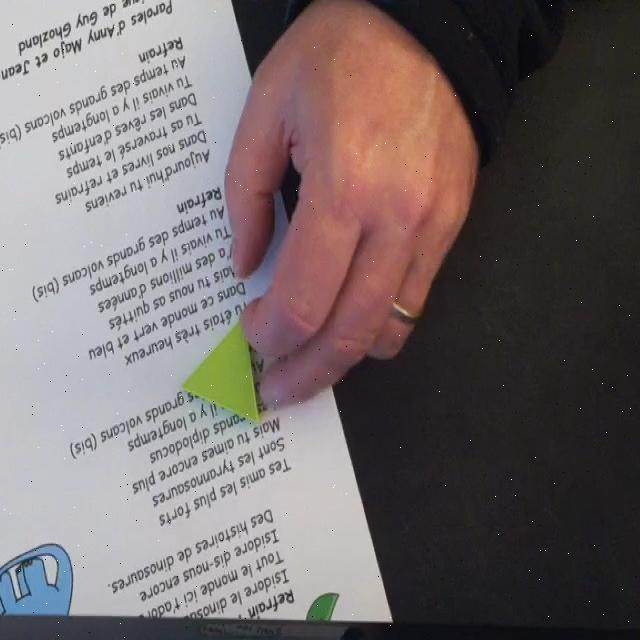triangle: (180, 316, 262, 428)
